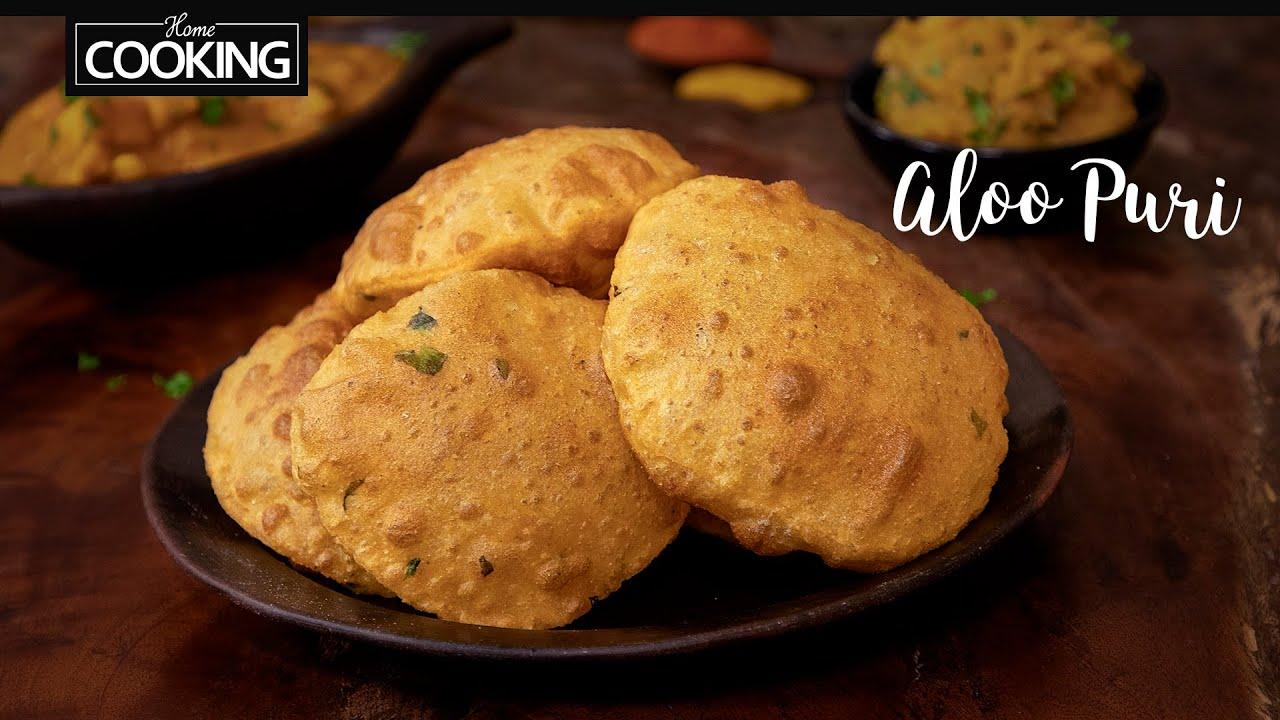puri: (228, 244, 1032, 598)
